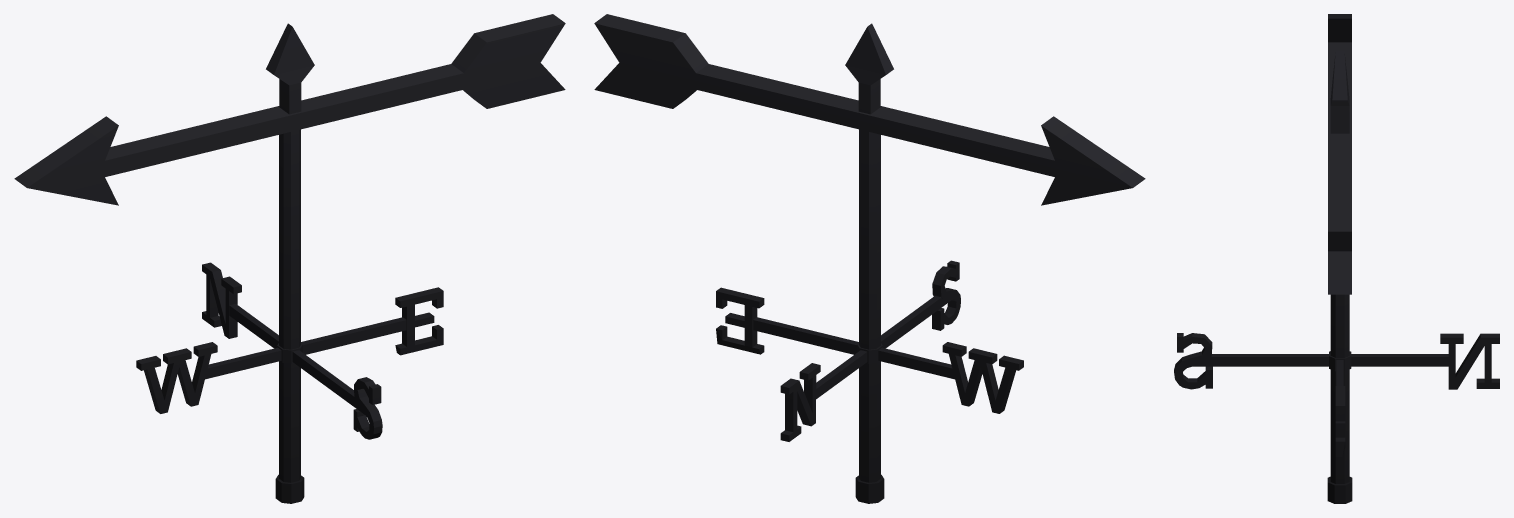
The model's file is Prop_Weathervane_01.obj.
3 renders of one model, left to right at view 1: azimuth 30°, elevation 25°; view 2: azimuth 150°, elevation 25°; view 3: azimuth 270°, elevation 25°, orthographic. The views are drawn at different scales.
Visible parts, largest first — view 1: Prop_Weathervane_01, Prop_Weathervane_Top_01; view 2: Prop_Weathervane_01, Prop_Weathervane_Top_01; view 3: Prop_Weathervane_01, Prop_Weathervane_Top_01.
Part boxes in pixels (x1,y1,x2,y2): Prop_Weathervane_01: (136,23,443,503); Prop_Weathervane_Top_01: (14,14,565,205); Prop_Weathervane_01: (716,23,1023,503); Prop_Weathervane_Top_01: (594,14,1145,205); Prop_Weathervane_01: (1174,51,1499,503); Prop_Weathervane_Top_01: (1328,14,1351,294).
Bounding box in the file's own units: 1.04 × 0.8723 × 0.5747.
1 material, 1 textured.
